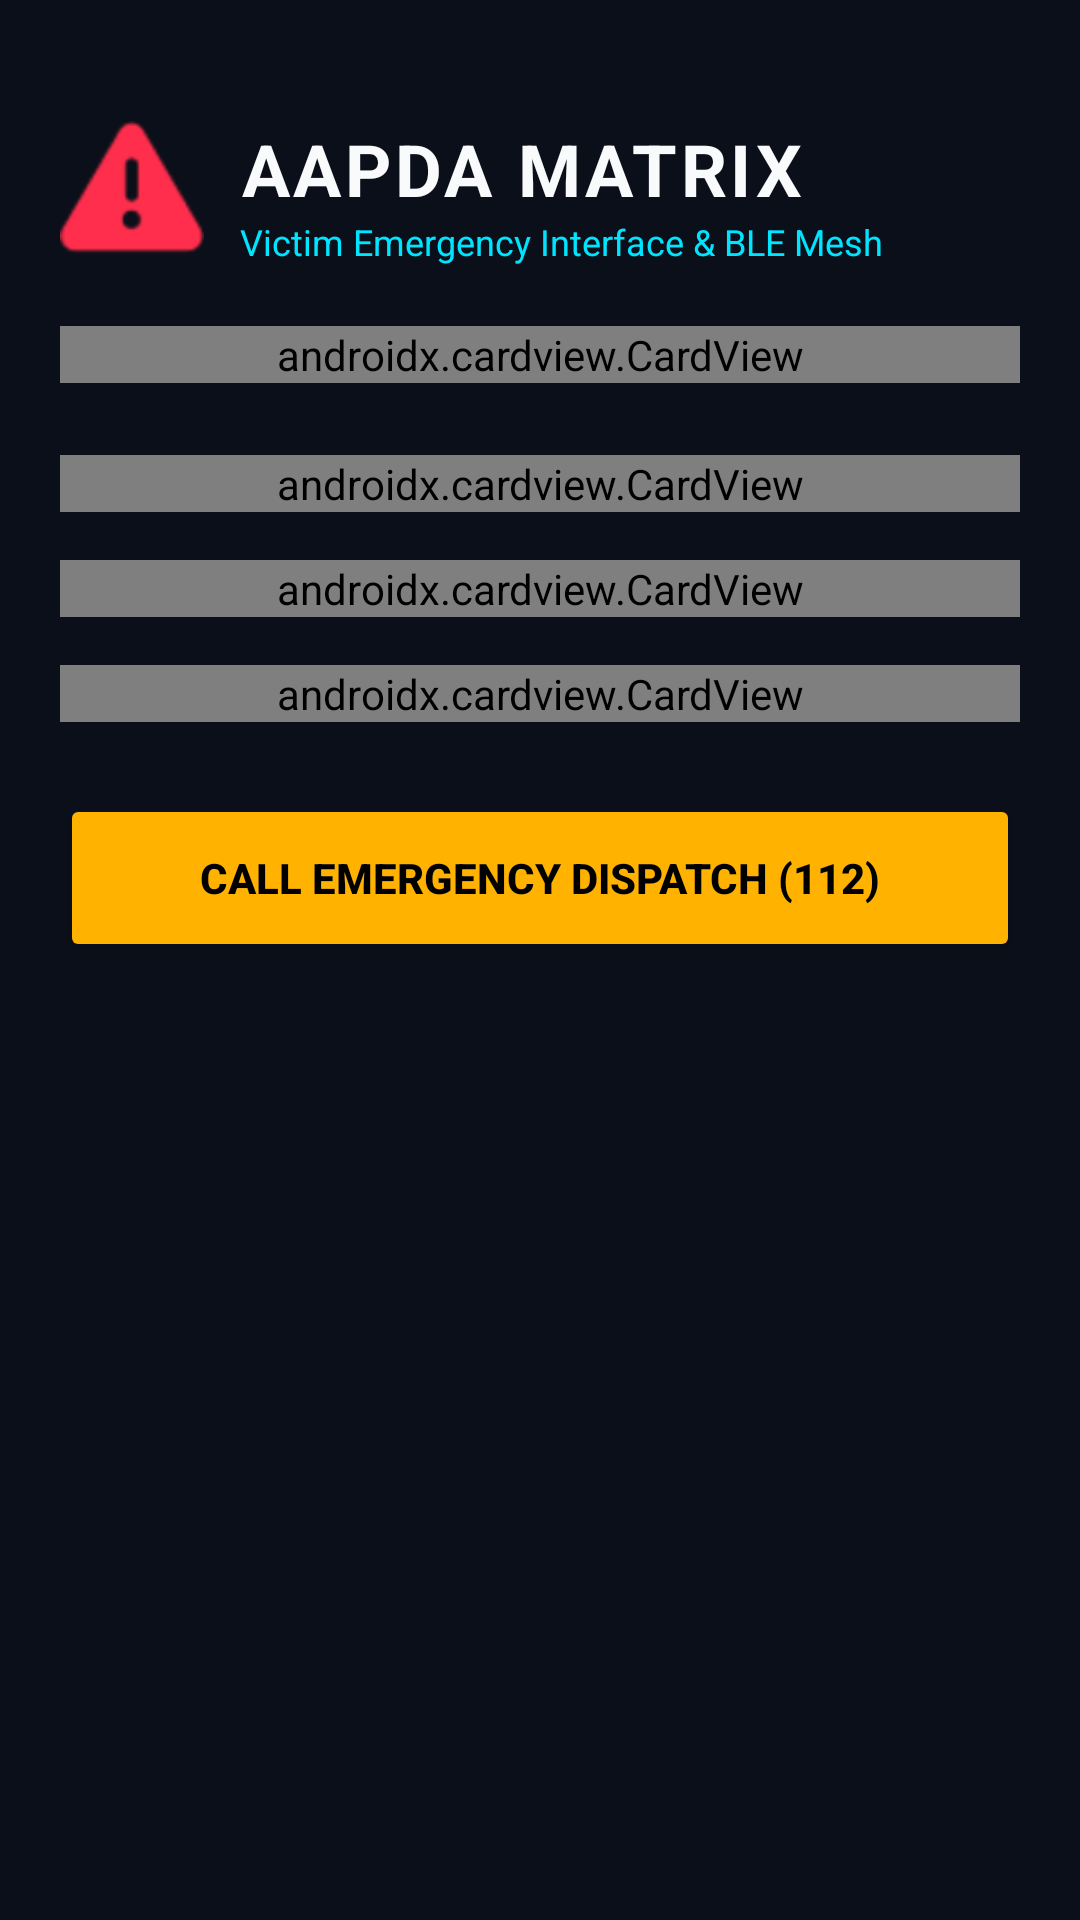

Icon click points for this 1080w x 1920h phone screenshot, format point (x, y):
alert: point (132, 186)
